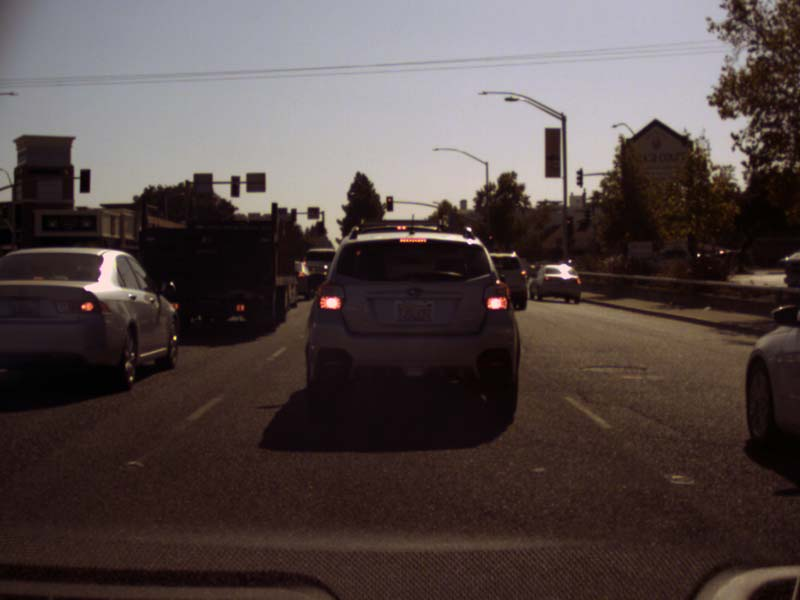Red: (565, 217, 572, 234), (386, 196, 391, 209), (487, 234, 492, 245)
